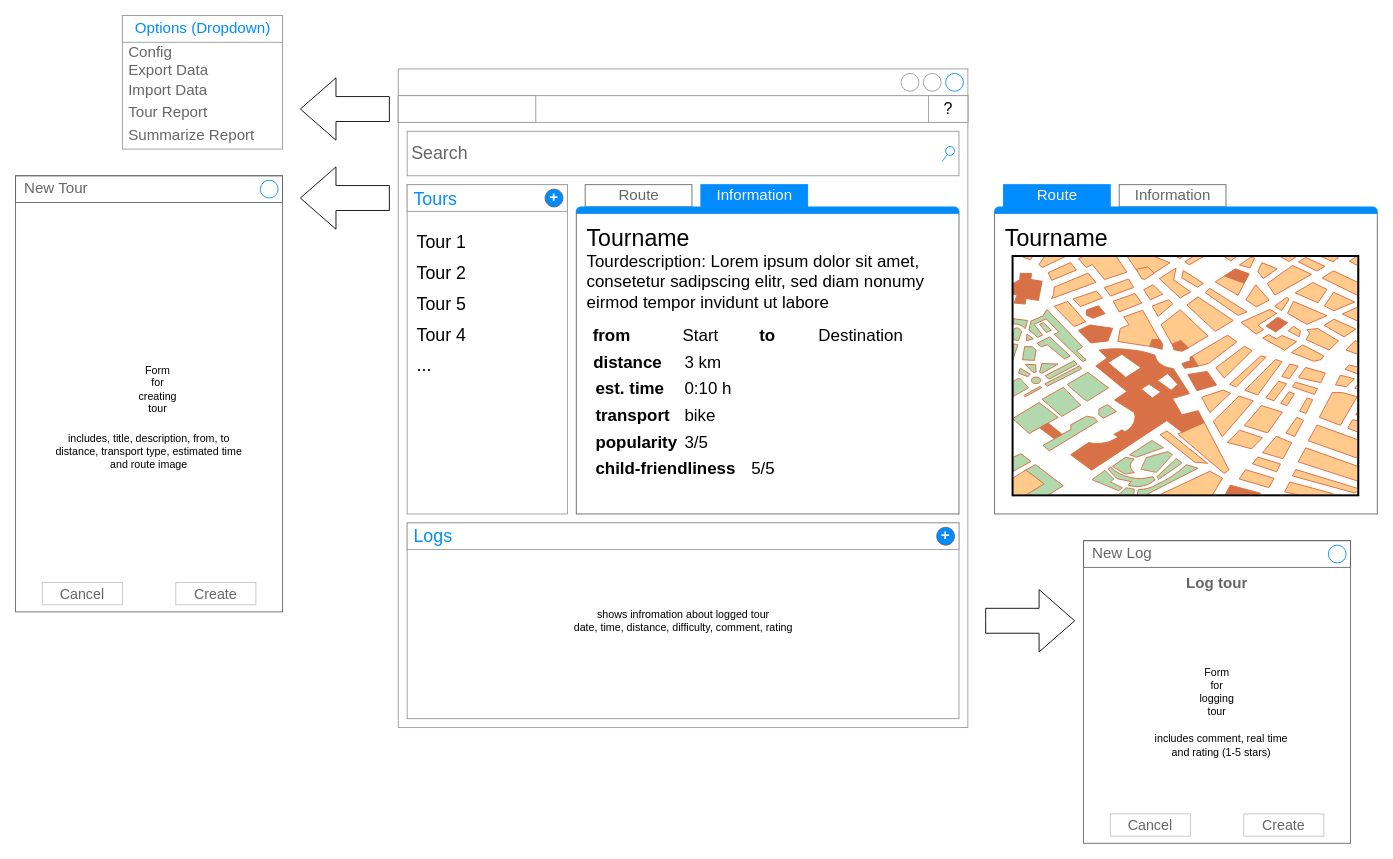
Some shapes in this 1393 by 859 pixel diagram are drawn without their labels. The shapes that lost their labels are listed below. From the top down, each one's box as (x1, y1, x2, y2) in pixels, then its label:
(397, 95, 536, 122): Options
(15, 175, 283, 612): Create a new tour
(397, 68, 968, 728): Tour Planner
